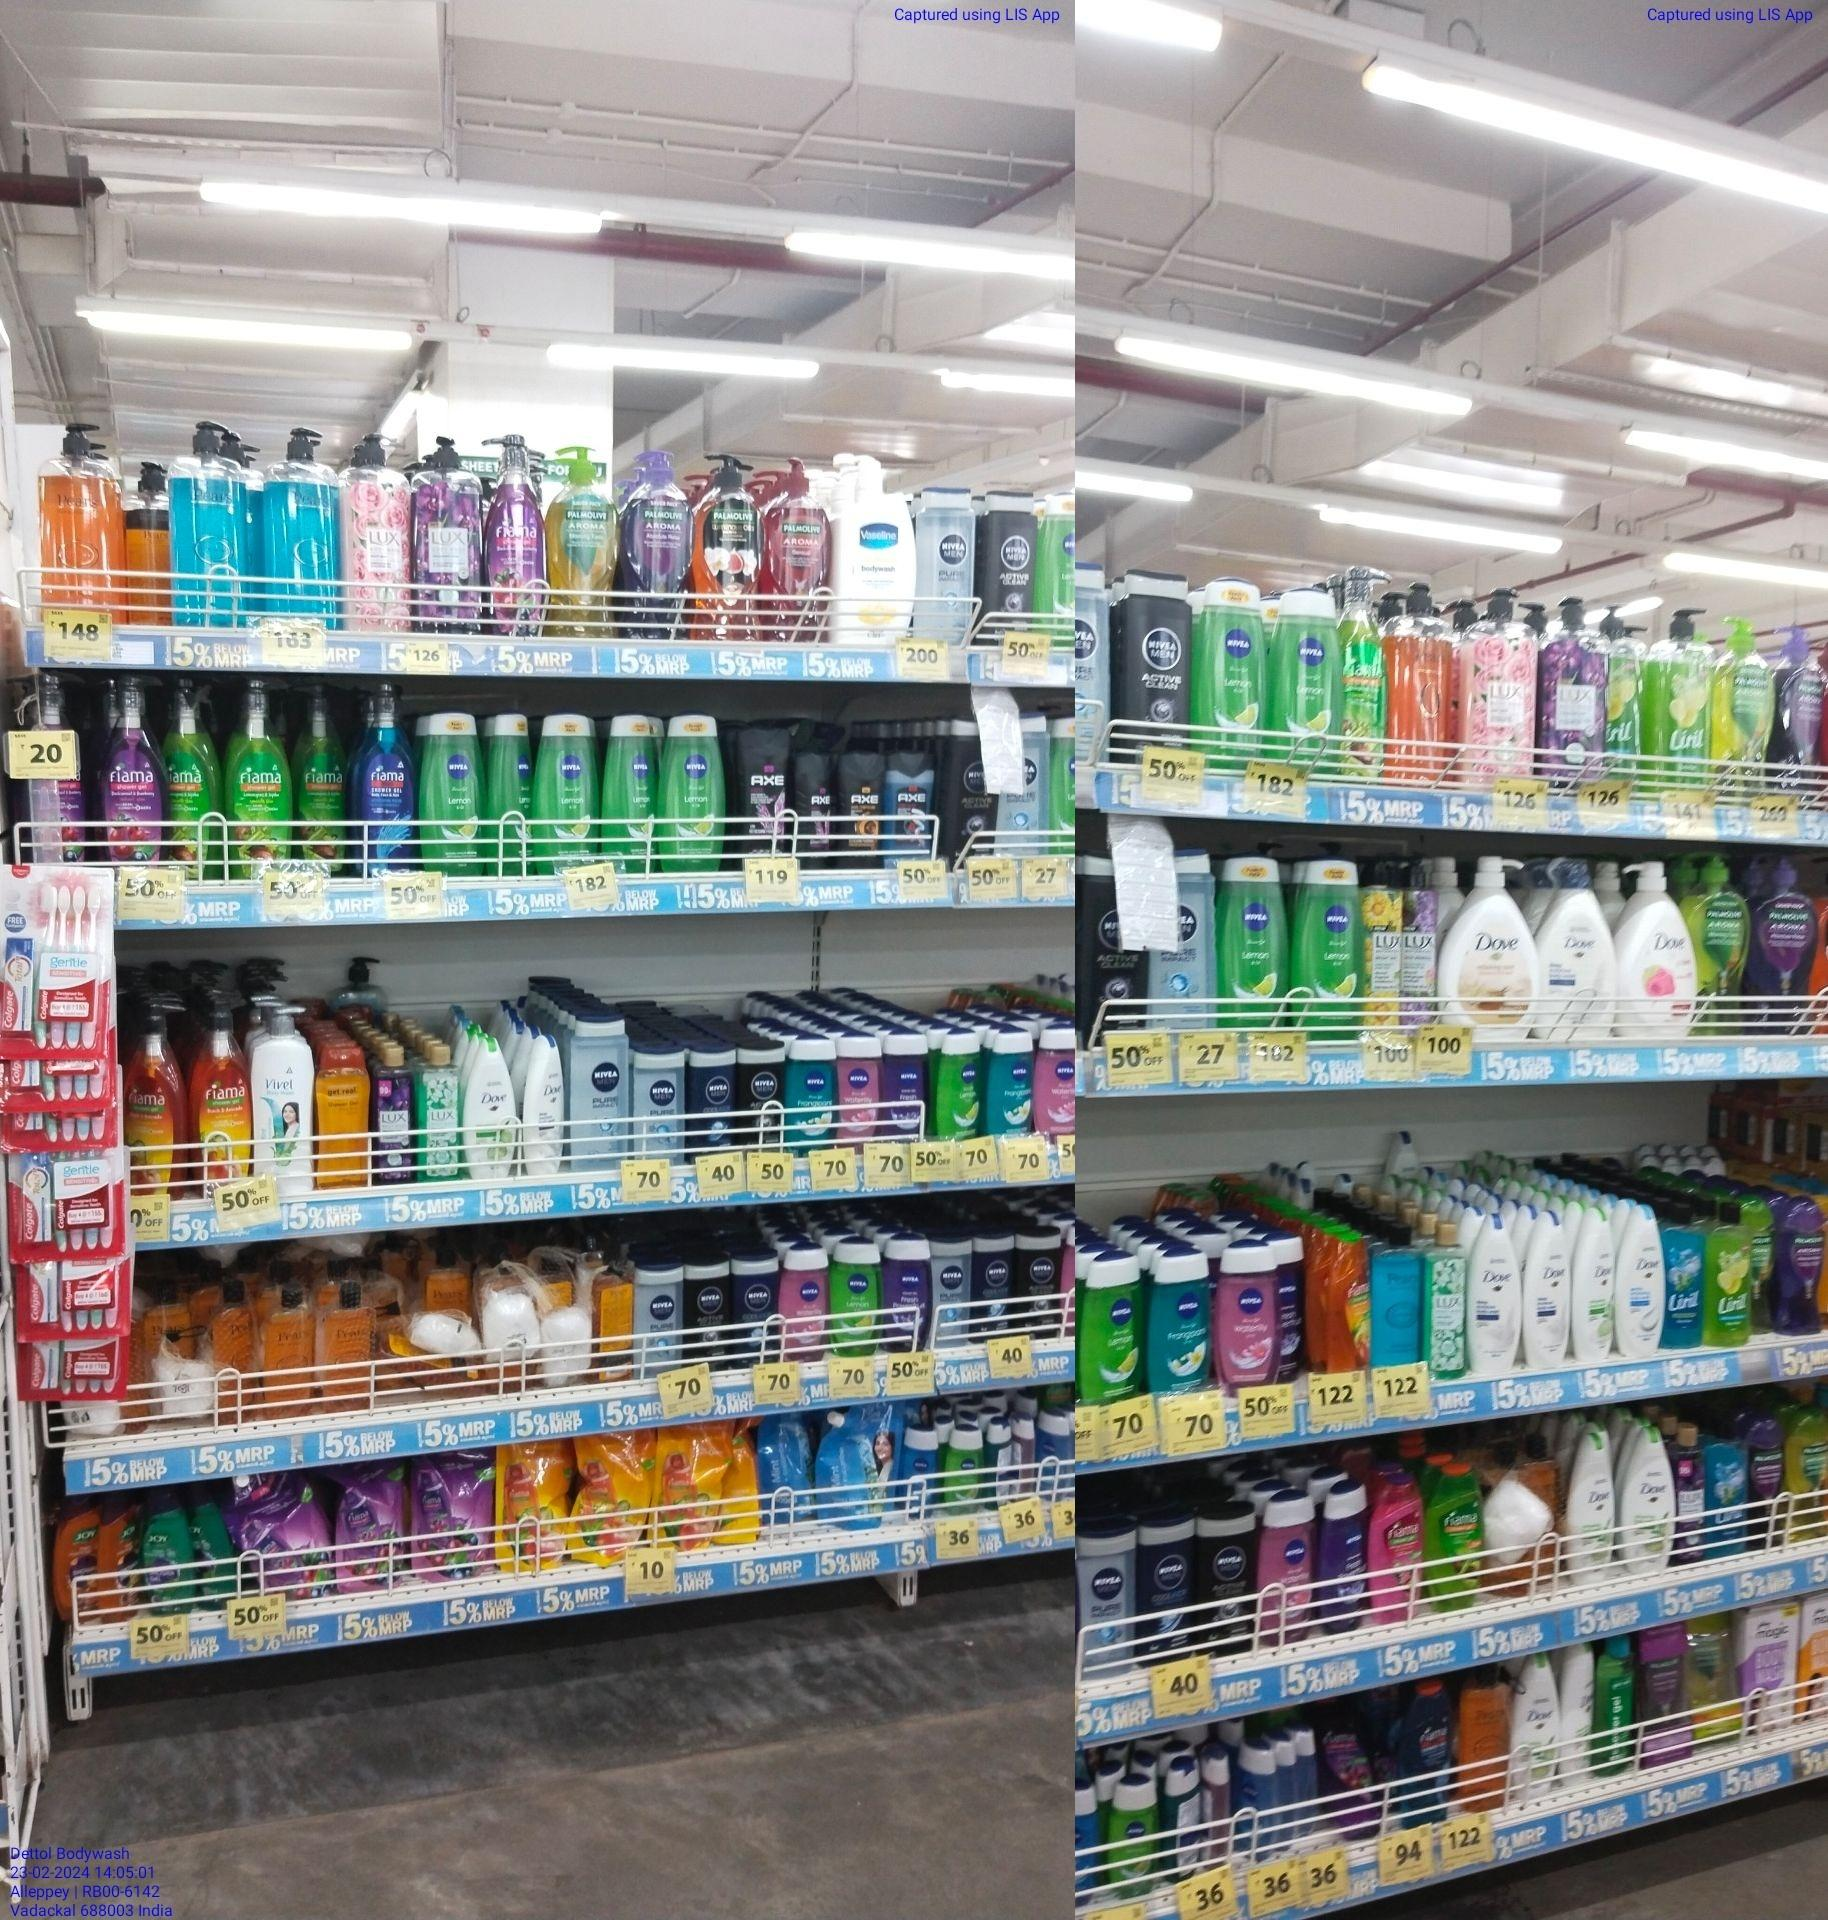Dove_Deep_Moisture_Body_Wash_250ML: (1470, 1219, 1519, 1380), (1523, 1212, 1571, 1370), (523, 1039, 568, 1174)
Dove_Gentle_Exfoliating_Body_Wash_250ML: (1619, 1203, 1667, 1359)
Dove_Refreshing_Body_Wash_250ML: (1621, 1431, 1672, 1575), (463, 1042, 514, 1179), (1572, 1210, 1619, 1361), (1511, 1661, 1560, 1800), (1569, 1433, 1612, 1579)
Fiama_Shower_Gel_Lemongrass_and_Jojoba_250ML: (1427, 1464, 1482, 1610)
Fiama_Shower_Gel_Patchouli_and_Macadamia_250ML: (1368, 1474, 1425, 1623)
Get_Real_Shower_Gel_Moisturising_Glycerin_300ML: (317, 1049, 370, 1188)
Joy_Shower_Gel_Mandarin_and_Lemongrass_250ML: (101, 1491, 146, 1622), (58, 1490, 98, 1620)
Joy_Shower_Gel_Mint_and_Eucalyptus_250ML: (147, 1510, 195, 1618)
Liril_Cooling_Mint_Body_Wash_250ML: (1710, 1413, 1751, 1565), (1665, 1197, 1706, 1347)
Liril_Lime_and_Tea_Tree_Oil_Body_Wash_250ML: (1706, 1198, 1754, 1346)
Lux_Black_Orchid_Scent_and_Juniper_Oil_Body_Wash_245ML: (372, 1044, 415, 1181), (1675, 1423, 1710, 1562)
Lux_Body_Wash_Skin_Detox_Freesia_Scent_and_Alove_Vera_245ML: (1425, 1222, 1470, 1375), (418, 1044, 461, 1181)
Nivea_Shower_Gel_Frangipani_and_Oil_250ML: (1152, 1246, 1212, 1395), (787, 1035, 837, 1149), (984, 1029, 1034, 1135)
Nivea_Shower_Gel_Fresh_Powerfruit_250ML: (1317, 1481, 1367, 1634), (883, 1239, 926, 1353), (885, 1030, 926, 1138)
Nivea_Shower_Gel_Lemon_and_Oil_250ML: (1194, 566, 1271, 763), (1269, 583, 1343, 773), (1295, 855, 1365, 1041), (1219, 855, 1291, 1027), (532, 711, 598, 862), (424, 713, 485, 874), (662, 717, 725, 873), (1080, 1251, 1144, 1401), (602, 713, 657, 869), (492, 717, 530, 876), (832, 1236, 880, 1356), (935, 1030, 984, 1138)
Nivea_Shower_Gel_Waterlily_and_Oil_250ML: (1218, 1245, 1283, 1390), (1260, 1495, 1310, 1646), (779, 1248, 825, 1361), (837, 1034, 883, 1145), (1036, 1027, 1077, 1135)
Palmolive_Aroma_Relax_250ML: (1773, 1197, 1825, 1334)
